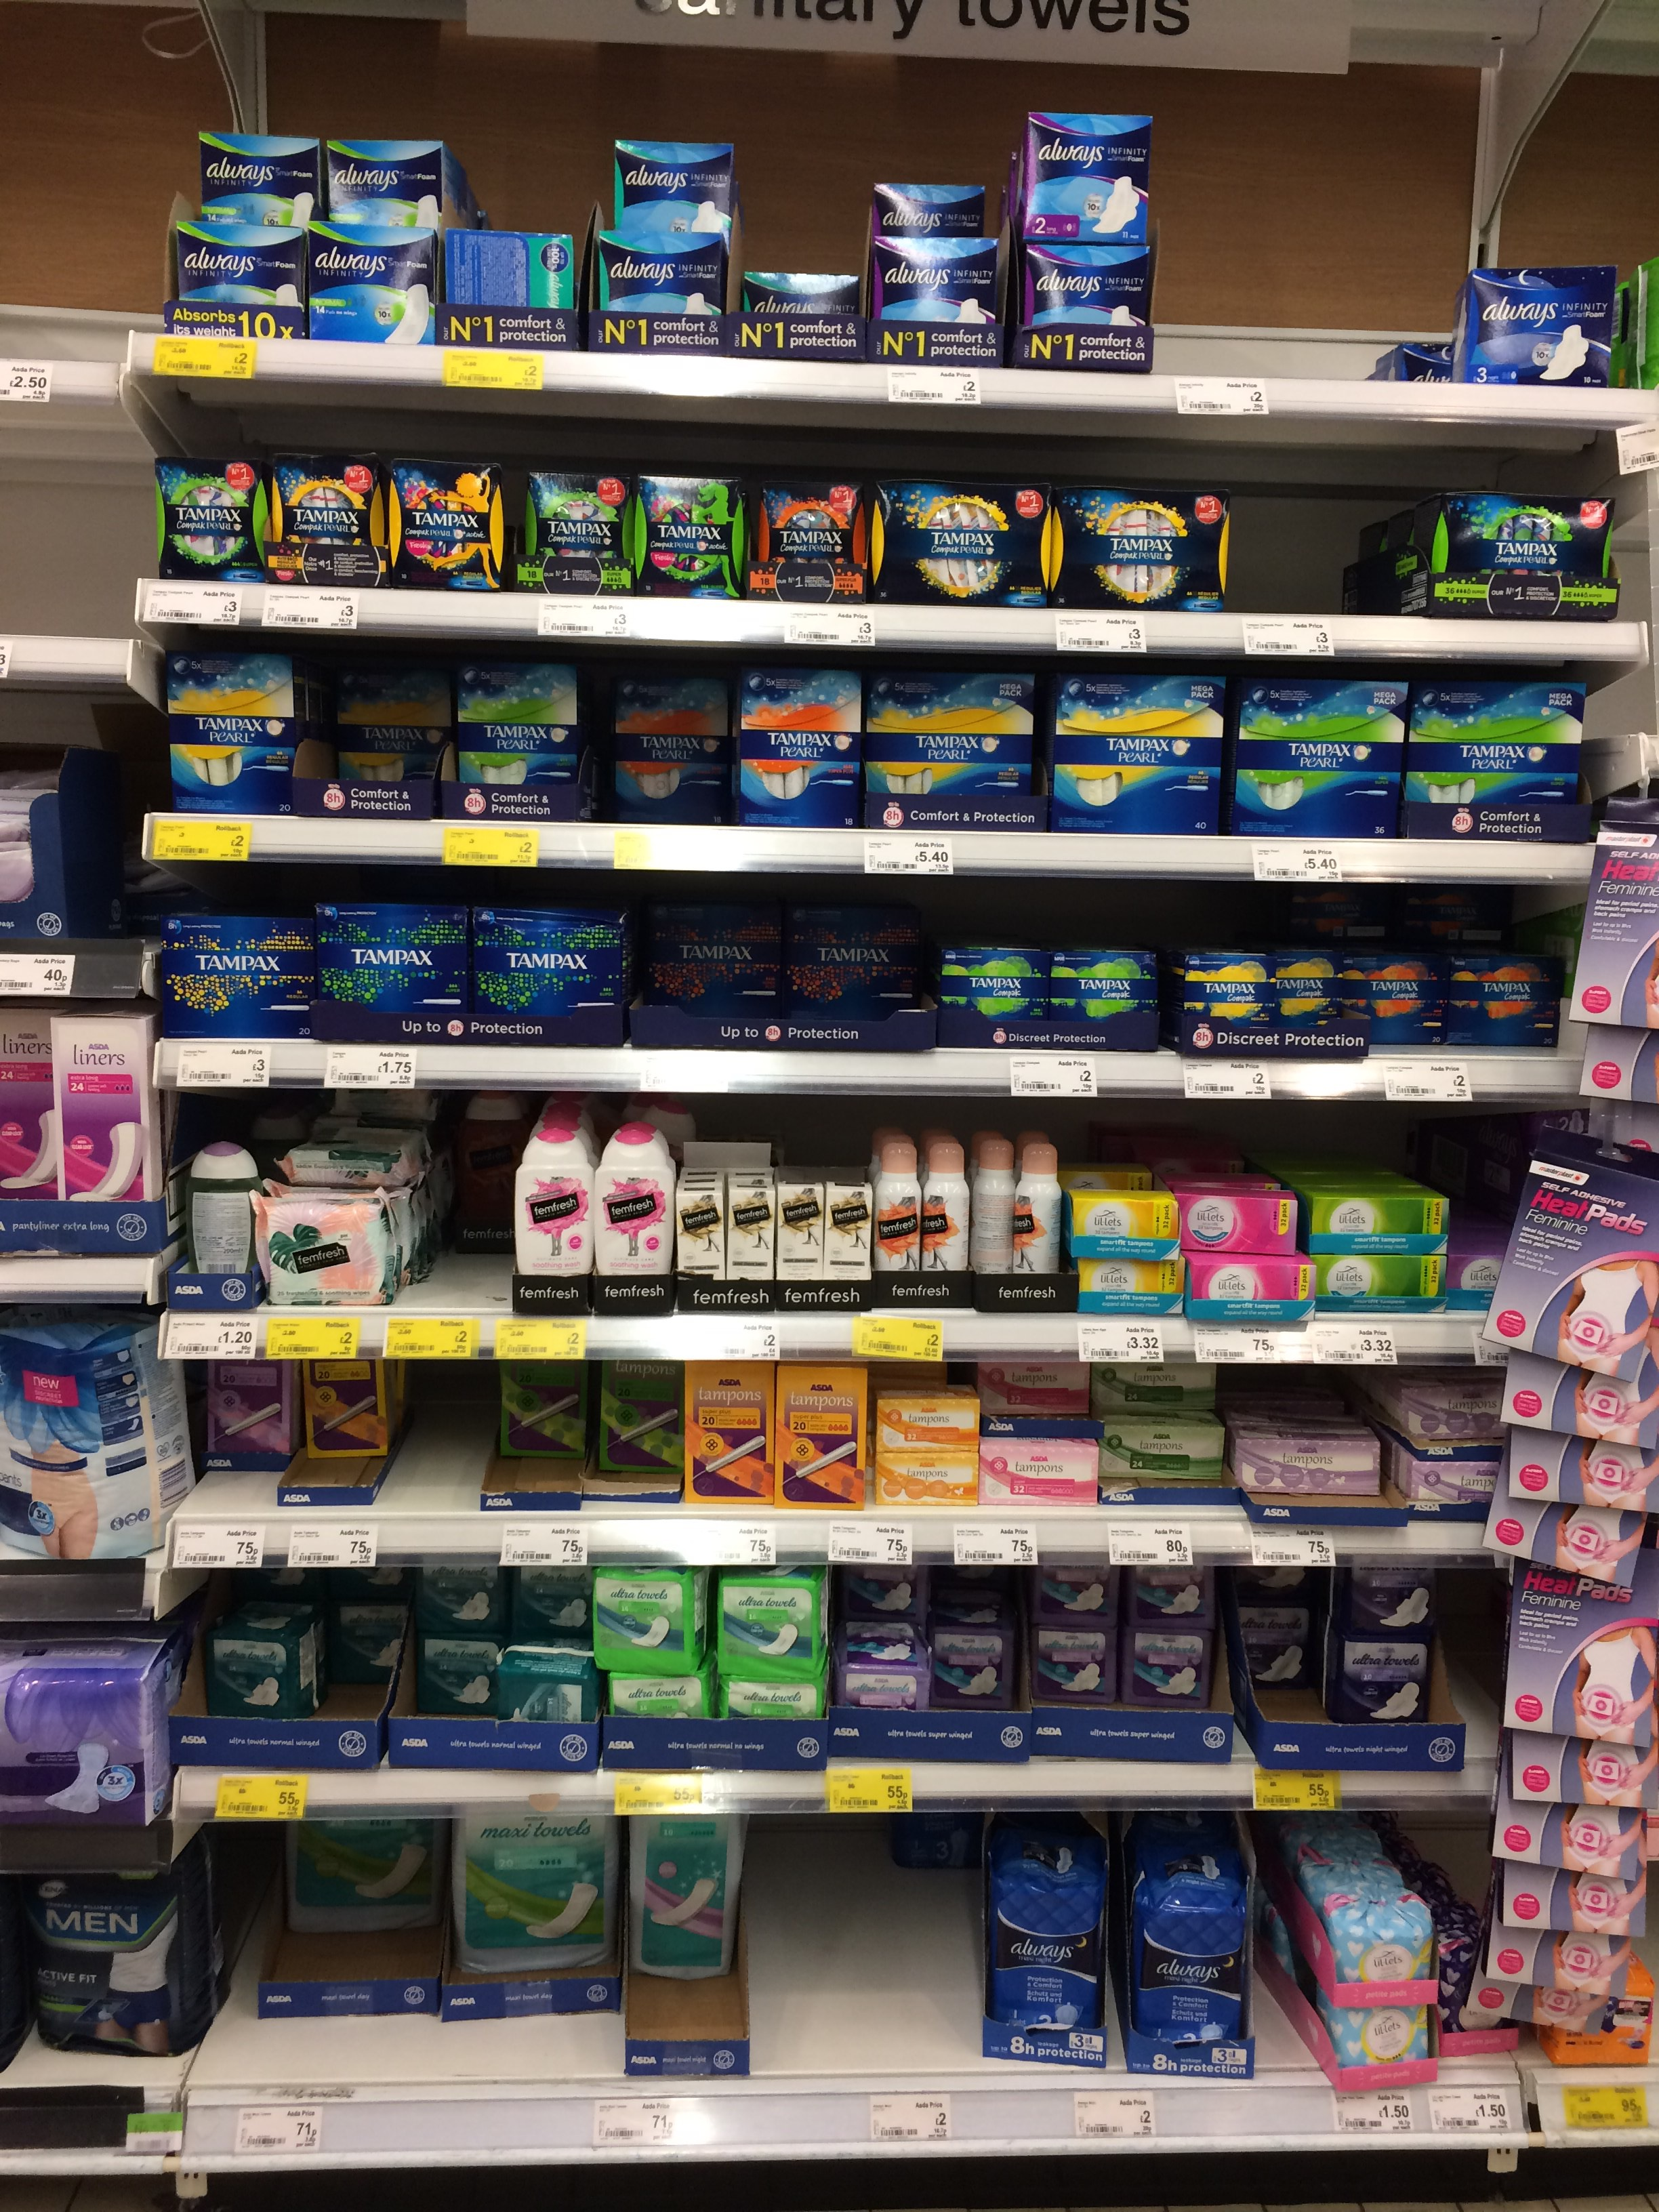Misplacement: (394, 1096, 521, 1303)
